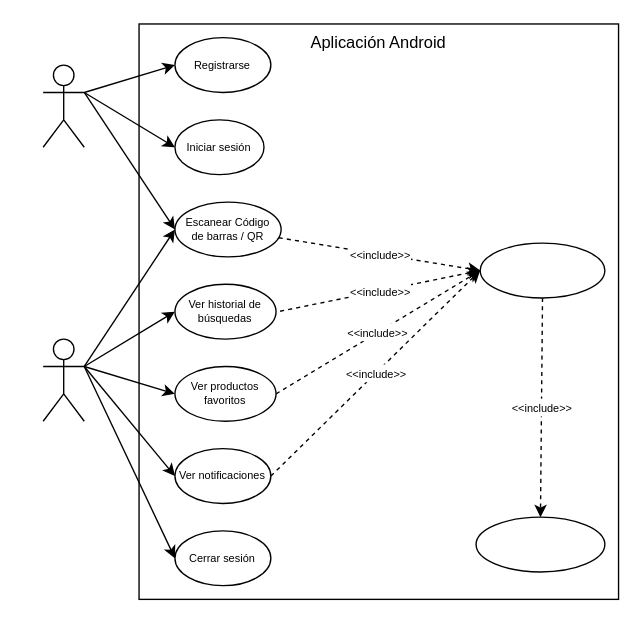
This 643x623 diagram has some shape labels left out. Here are the shapes that lost their labels. From the top down, the box of each, then its label:
(42, 64, 84, 147): Usuario Anónimo
(479, 242, 605, 298): Ver datos de un producto
(42, 338, 84, 421): Usuario Registrado
(475, 516, 605, 572): Añadir/Eliminar un producto de favoritos
